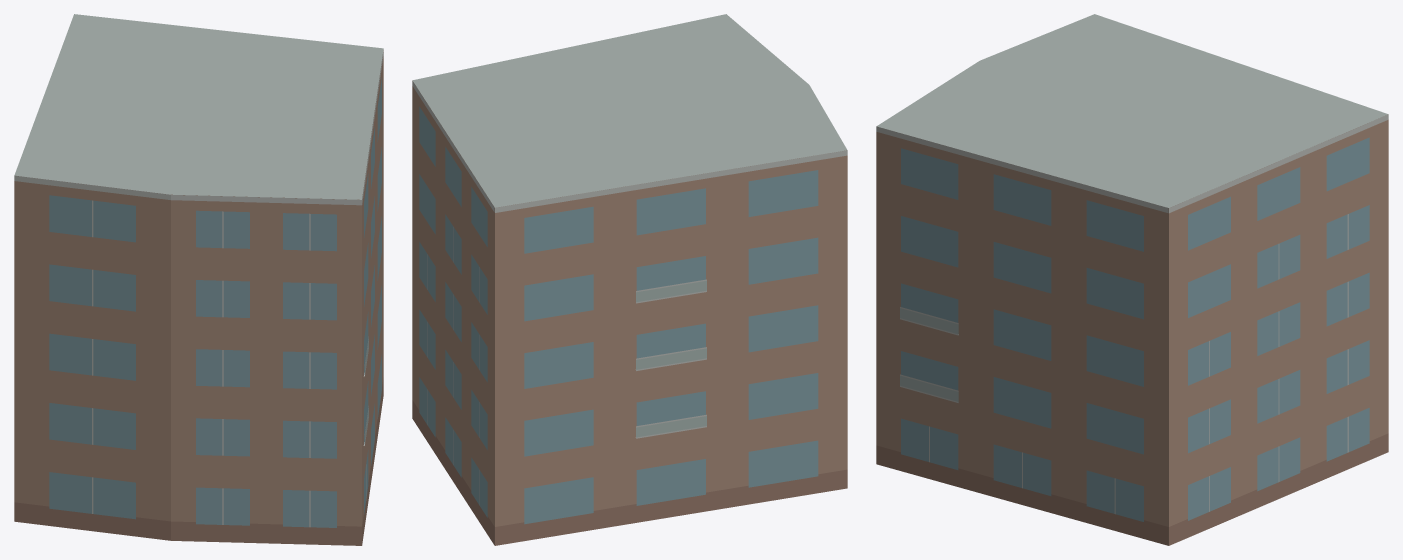
Rendered from survey-upis-32989476.glb.
3 renders of one model, left to right at view 1: azimuth 30°, elevation 25°; view 2: azimuth 150°, elevation 25°; view 3: azimuth 270°, elevation 25°, orthographic. The views are drawn at different scales.
Visible parts, largest first — view 1: survey-upis-32989476.tmp; view 2: survey-upis-32989476.tmp; view 3: survey-upis-32989476.tmp.
Boxes of the visible parts, x1,y1,x2,y2 form: survey-upis-32989476.tmp: (14, 14, 383, 545); survey-upis-32989476.tmp: (412, 14, 847, 545); survey-upis-32989476.tmp: (876, 14, 1388, 545).
Bounding box in the file's own units: 19.11 × 15.5 × 21.31.
